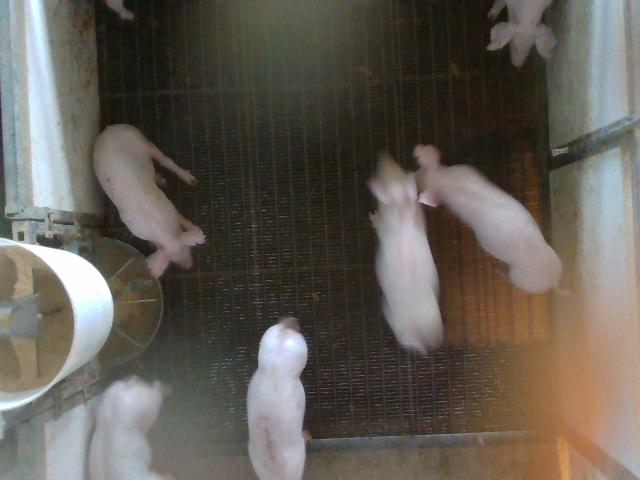pig-3: (249, 318, 308, 479)
pig-4: (369, 152, 444, 353)
